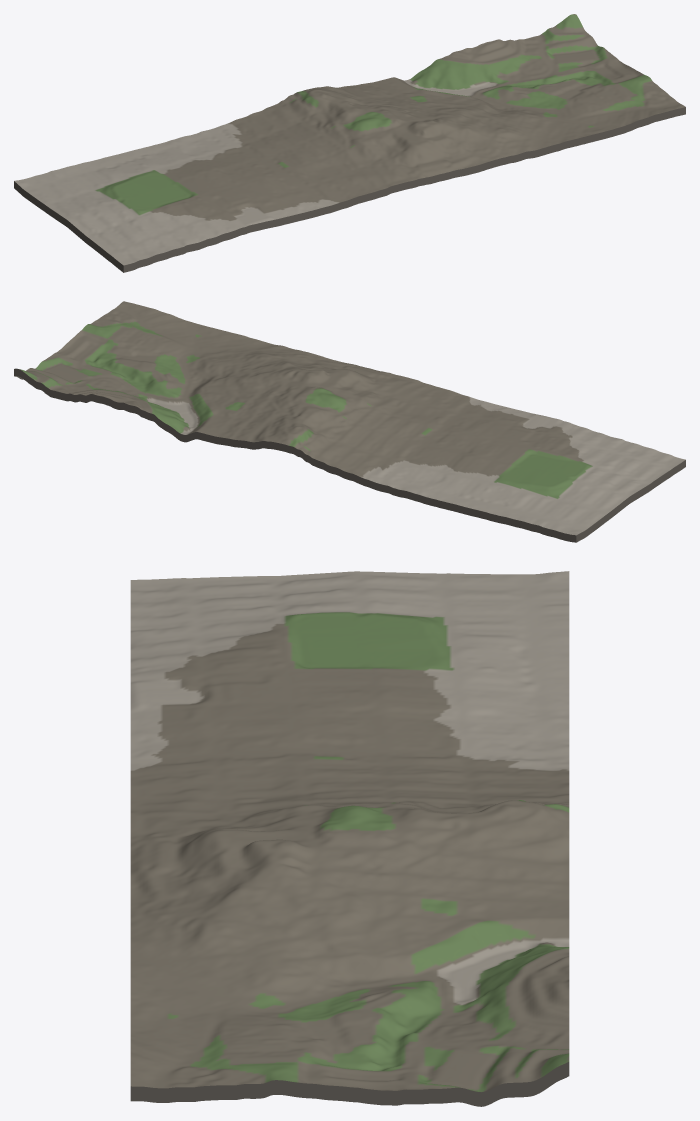
File: terrain_1_4.glb
3 views of the same model, one above another, from view 1: azimuth 30°, elevation 25°; view 2: azimuth 150°, elevation 25°; view 3: azimuth 270°, elevation 25° (orthographic). The views are drawn at different scales.
Parts seen in each view (by area): view 1: terrain_1_4; view 2: terrain_1_4; view 3: terrain_1_4.
Part boxes in pixels (x1,y1,x2,y2): terrain_1_4: (14, 14, 685, 272); terrain_1_4: (14, 301, 685, 542); terrain_1_4: (130, 571, 569, 1106).
Bounding box in the file's own units: 3200 × 229 × 1080.
